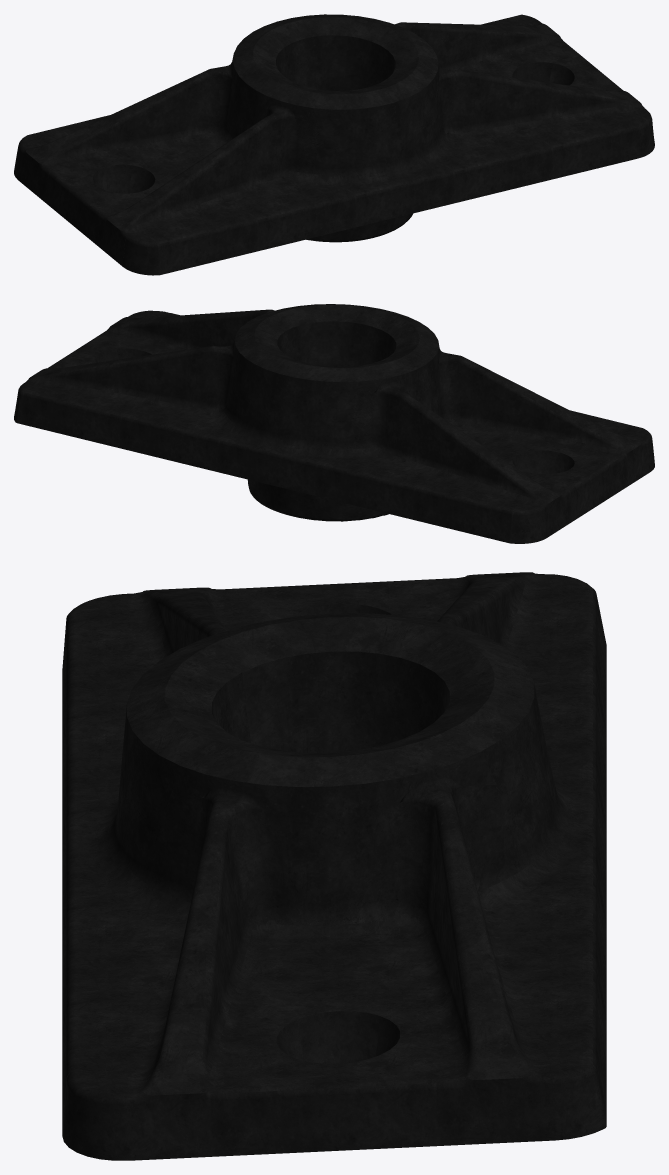
File: Ancoragem.glb
The picture shows the model from 3 angles, top to bottom: view 1: azimuth 30°, elevation 25°; view 2: azimuth 150°, elevation 25°; view 3: azimuth 270°, elevation 25°; orthographic projection. The views are drawn at different scales.
Parts seen in each view (by area): view 1: Ancoragem 0.5; view 2: Ancoragem 0.5; view 3: Ancoragem 0.5.
Boxes of the visible parts, bbox=[...] form: Ancoragem 0.5: bbox=[14, 14, 654, 275]; Ancoragem 0.5: bbox=[14, 304, 654, 543]; Ancoragem 0.5: bbox=[62, 572, 606, 1160].
Size of the model in its own units: 5.37 by 1.55 by 2.41.
Materials: 1 (1 with a texture image).
